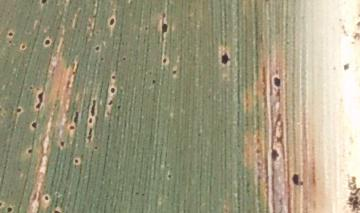tarspot: (288, 170, 307, 191), (218, 50, 232, 70), (86, 97, 99, 118), (33, 91, 46, 112), (267, 146, 283, 163), (269, 73, 283, 92), (84, 126, 96, 145), (159, 21, 170, 40), (105, 16, 118, 29), (341, 60, 352, 75), (71, 109, 81, 125), (108, 83, 118, 97), (25, 145, 37, 156), (104, 98, 117, 108), (30, 120, 41, 131), (160, 54, 170, 66), (163, 171, 175, 181), (254, 145, 263, 158), (35, 1, 54, 7), (42, 193, 52, 204), (67, 123, 77, 134), (41, 37, 53, 46), (57, 140, 69, 149), (13, 105, 26, 113), (108, 73, 121, 81), (83, 117, 96, 125), (70, 156, 80, 166), (5, 29, 16, 38), (25, 83, 37, 91), (149, 76, 158, 86), (170, 67, 179, 77), (254, 171, 264, 180), (4, 39, 16, 46), (119, 55, 128, 64), (18, 43, 28, 51), (92, 44, 100, 53), (5, 205, 14, 213), (51, 207, 63, 213), (253, 137, 263, 144)
